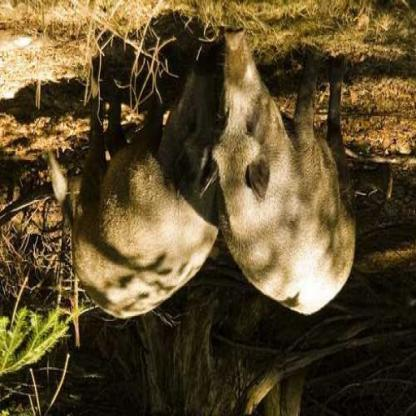boar: (47, 32, 252, 338), (201, 0, 367, 324)
